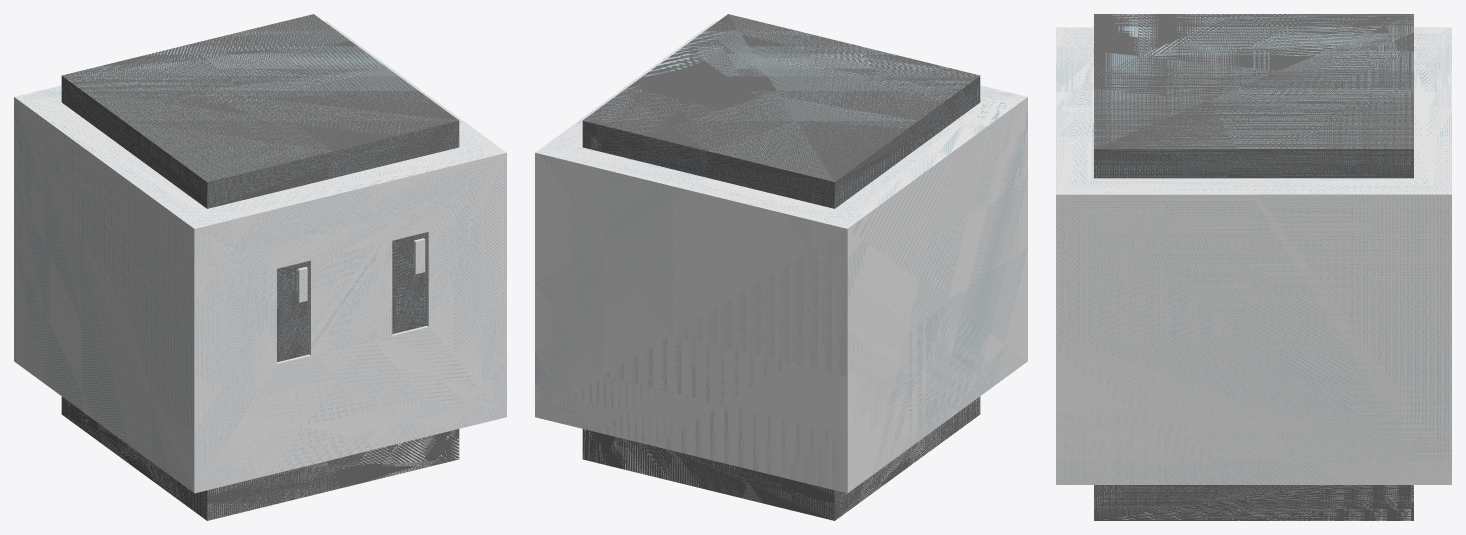
The model's file is cuby.glb.
3 renders of one model, left to right at view 1: azimuth 30°, elevation 25°; view 2: azimuth 150°, elevation 25°; view 3: azimuth 270°, elevation 25°, orthographic. The views are drawn at different scales.
Parts seen in each view (by area): view 1: SketchUp.001, SketchUp.004, SketchUp.003, SketchUp.009, SketchUp.007; view 2: SketchUp.001, SketchUp.004, SketchUp.003; view 3: SketchUp.001, SketchUp.004, SketchUp.003.
Part boxes in pixels (bbox=[...]): SketchUp.001: bbox=[14, 20, 506, 493]; SketchUp.004: bbox=[61, 14, 459, 208]; SketchUp.003: bbox=[61, 396, 459, 520]; SketchUp.009: bbox=[392, 232, 426, 333]; SketchUp.007: bbox=[277, 261, 309, 362]; SketchUp.001: bbox=[535, 20, 1027, 493]; SketchUp.004: bbox=[582, 14, 980, 208]; SketchUp.003: bbox=[582, 396, 980, 520]; SketchUp.001: bbox=[1056, 27, 1451, 484]; SketchUp.004: bbox=[1094, 14, 1413, 178]; SketchUp.003: bbox=[1094, 485, 1413, 520].
Size of the model in its own units: 2.07 by 2.15 by 2.07.
